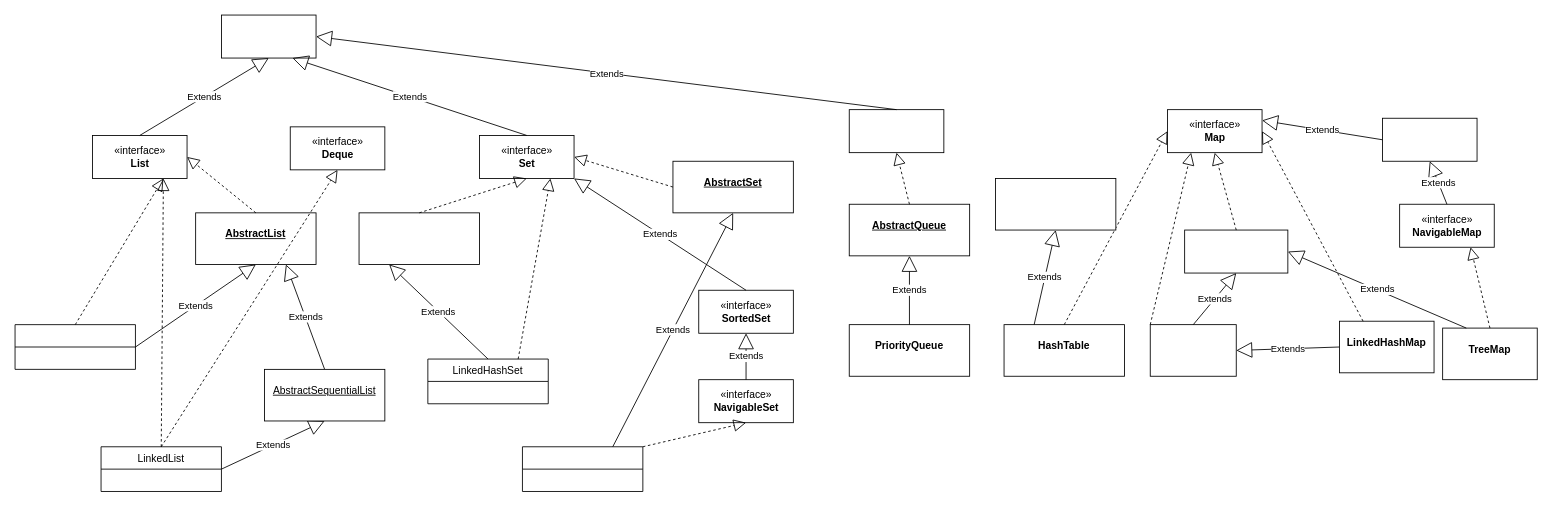
Image size: 1552x507. Some labels were removed from this diagram. Each missing label, with the centre of its shape:
AbstractMap: (1236,251)
ArrayList: (74,346)
Dictionary: (1055,204)
HashMap: (1192,350)
HashSet: (418,238)
TreeSet: (582,468)
«interface» Collection: (268,36)
«interface» Queue: (896,131)
«interface» SortedMap: (1429,139)
